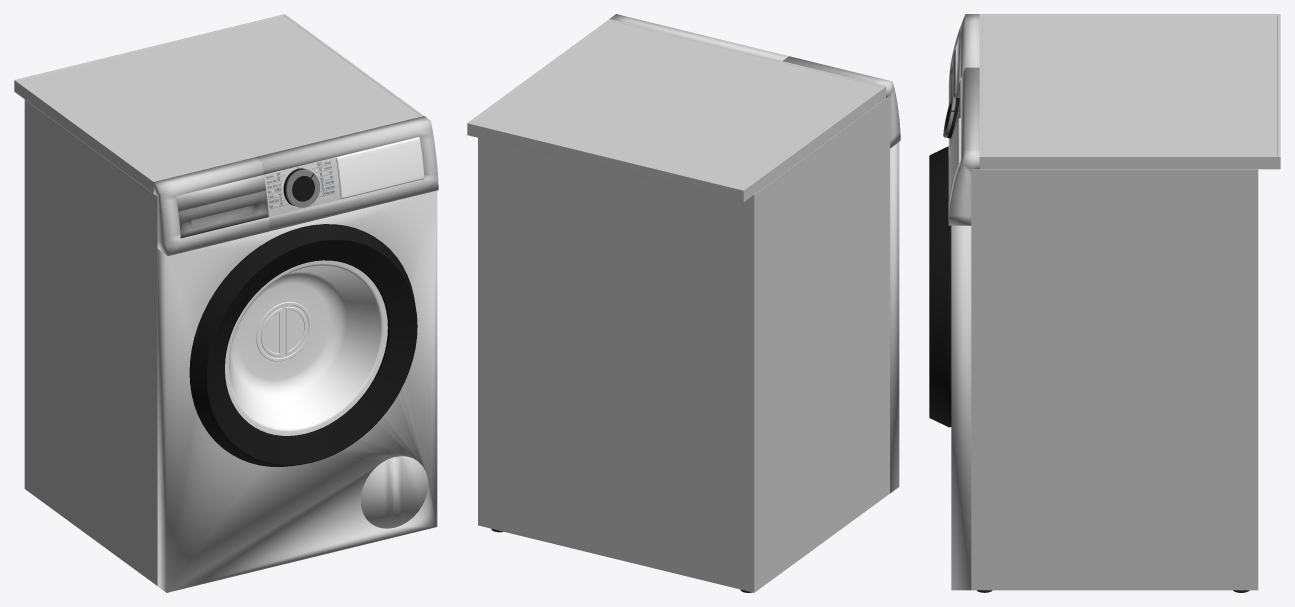
The model's file is washer.glb.
3 views of the same model, side by side, from view 1: azimuth 30°, elevation 25°; view 2: azimuth 150°, elevation 25°; view 3: azimuth 270°, elevation 25° (orthographic). The views are drawn at different scales.
Parts seen in each view (by area): view 1: WashingMachineMain, WashingMachineFront, Cube.011, WashingMachineDoor, WashingMachineSettings; view 2: WashingMachineMain, WashingMachineFront; view 3: WashingMachineMain, WashingMachineFront, WashingMachineDoor, WashingMachineSettings.
Boxes of the visible parts, x1,y1,x2,y2 form: WashingMachineMain: (14, 14, 423, 585); WashingMachineFront: (153, 116, 438, 592); Cube.011: (225, 260, 387, 435); WashingMachineDoor: (189, 224, 417, 466); WashingMachineSettings: (264, 136, 424, 216); WashingMachineMain: (467, 19, 889, 592); WashingMachineFront: (610, 14, 900, 493); WashingMachineMain: (971, 14, 1280, 590); WashingMachineFront: (948, 14, 979, 590); WashingMachineDoor: (929, 146, 951, 427); WashingMachineSettings: (943, 80, 960, 202).
Size of the model in its own units: 0.6 by 0.8622 by 0.6244.
Materials: 10 (3 with a texture image).
